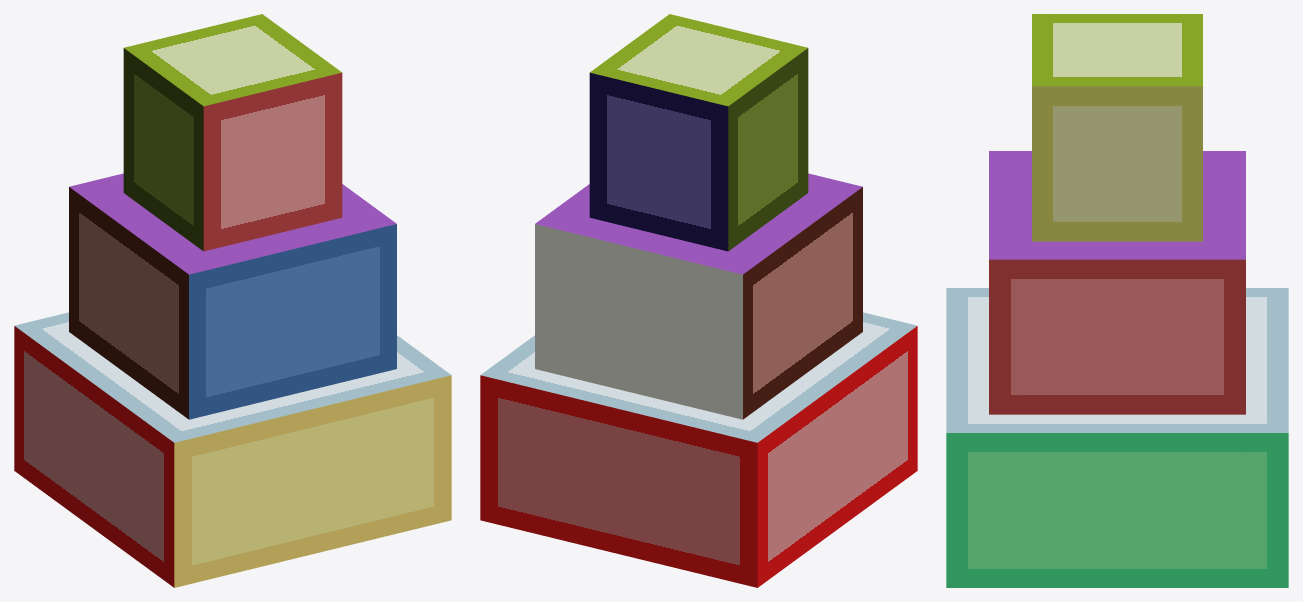
File: spire.glb
The picture shows the model from 3 angles, left to right: view 1: azimuth 30°, elevation 25°; view 2: azimuth 150°, elevation 25°; view 3: azimuth 270°, elevation 25°; orthographic projection. The views are drawn at different scales.
Visible parts, largest first — view 1: mesh (×3); view 2: mesh (×3); view 3: mesh (×3).
Boxes of the visible parts, bbox=[...] form: mesh (×3): bbox=[14, 14, 451, 587]; mesh (×3): bbox=[480, 14, 917, 587]; mesh (×3): bbox=[946, 14, 1288, 587].
Bounding box in the file's own units: 1 × 1.5 × 1.
1 material, 1 textured.
